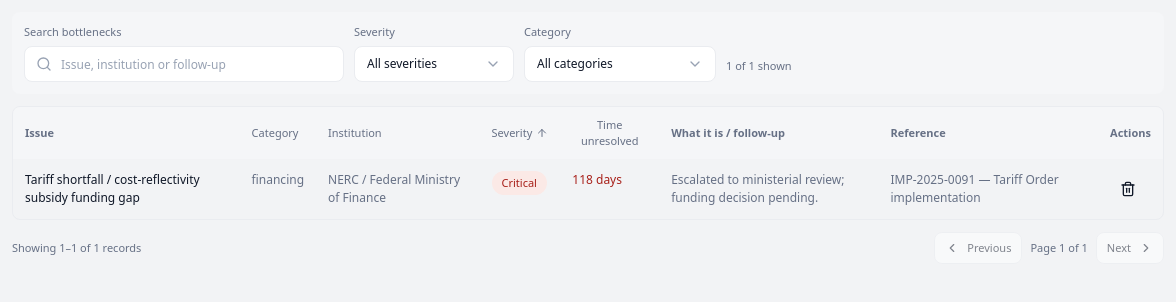
Dashboard issue deletion › keeps the row and displays a failed-delete error
Click the button named "Delete issue:" at (1128, 189), box top-left (1110, 171), bottom-right (1146, 207)
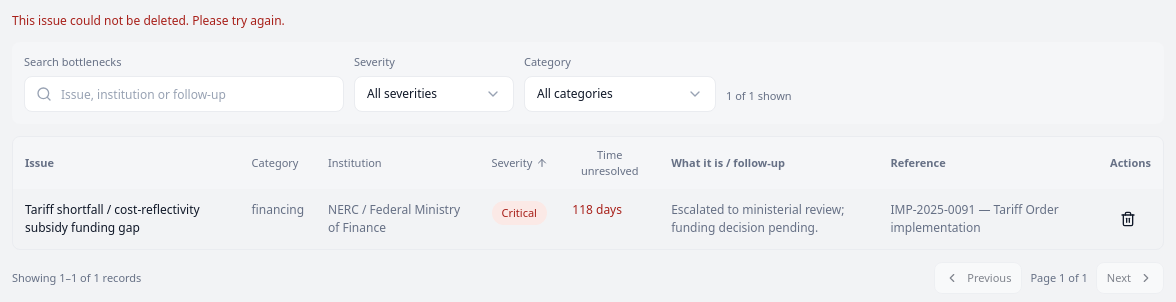
Expected: the link "Tariff shortfall / cost-reflectivity subsidy funding gap" is shown, top-left (25, 201), bottom-right (200, 236)
Result: the message shows "could not be deleted" at top-left (12, 12), bottom-right (285, 29)
